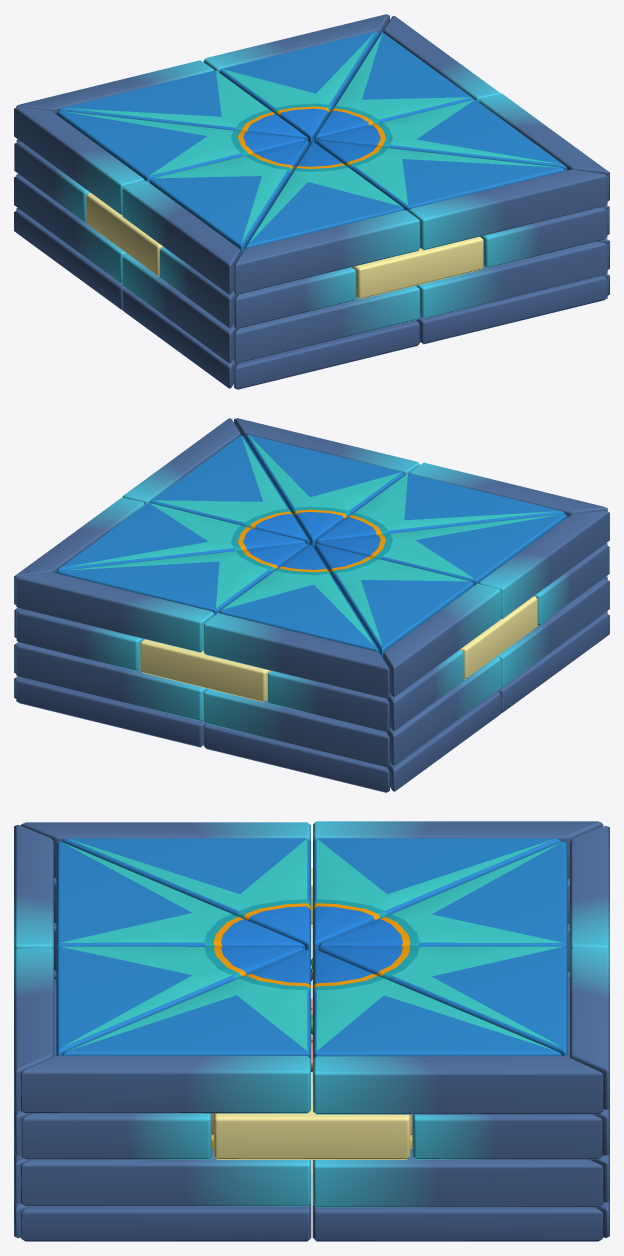
The model's file is lvl_101.fbx.
3 renders of one model, top to bottom at view 1: azimuth 30°, elevation 25°; view 2: azimuth 150°, elevation 25°; view 3: azimuth 270°, elevation 25°, orthographic. The views are drawn at different scales.
Parts seen in each view (by area): view 1: Cube_L1_11, Cube_L1_4, Cube_L2_2, Cube_L1_3, Cube_L2_1, Cube_L1, Cube_L1_2, Cube_L2, Cube_L2_3, Cube_L1_1, Cube_L3_14, Cube_L3_15 (+18 smaller); view 2: Cube_L1_7, Cube_L1_9, Cube_L2_1, Cube_L1, Cube_L2_2, Cube_L1_3, Cube_L2_3, Cube_L1_1, Cube_L2, Cube_L1_2, Cube_L3_18, Cube_L3_20 (+18 smaller); view 3: Cube_L1_8, Cube_L1_10, Cube_L1, Cube_L1_3, Cube_L2_1, Cube_L2_2, Cube_L3_19, Cube_L1_1, Cube_L1_2, Cube_L3_13, Cube_L2_3, Cube_L2 (+11 smaller).
Boxes of the visible parts, bbox=[...] form: Cube_L1_11: bbox=[409, 169, 607, 250]; Cube_L1_4: bbox=[234, 210, 420, 294]; Cube_L2_2: bbox=[150, 141, 309, 253]; Cube_L1_3: bbox=[315, 140, 565, 211]; Cube_L2_1: bbox=[56, 111, 306, 182]; Cube_L1: bbox=[219, 31, 379, 143]; Cube_L1_2: bbox=[317, 99, 567, 170]; Cube_L2: bbox=[58, 70, 308, 141]; Cube_L2_3: bbox=[244, 142, 404, 249]; Cube_L1_1: bbox=[314, 32, 473, 142]; Cube_L3_14: bbox=[416, 241, 607, 318]; Cube_L3_15: bbox=[234, 286, 420, 363]; Cube_L1_7: bbox=[203, 613, 389, 698]; Cube_L1_9: bbox=[16, 572, 214, 652]; Cube_L2_1: bbox=[314, 544, 473, 657]; Cube_L1: bbox=[58, 543, 308, 615]; Cube_L2_2: bbox=[317, 514, 567, 585]; Cube_L1_3: bbox=[244, 434, 404, 547]; Cube_L2_3: bbox=[315, 473, 565, 544]; Cube_L1_1: bbox=[56, 503, 306, 573]; Cube_L2: bbox=[219, 545, 379, 652]; Cube_L1_2: bbox=[150, 435, 309, 545]; Cube_L3_18: bbox=[203, 689, 389, 767]; Cube_L3_20: bbox=[16, 644, 208, 720]; Cube_L1_8: bbox=[313, 1056, 603, 1114]; Cube_L1_10: bbox=[20, 1056, 310, 1113]; Cube_L1: bbox=[318, 946, 567, 1056]; Cube_L1_3: bbox=[56, 946, 305, 1056]; Cube_L2_1: bbox=[313, 838, 561, 950]; Cube_L2_2: bbox=[61, 838, 310, 950]; Cube_L3_19: bbox=[313, 1149, 603, 1207]; Cube_L1_1: bbox=[313, 950, 562, 1058]; Cube_L1_2: bbox=[62, 950, 310, 1058]; Cube_L3_13: bbox=[20, 1149, 310, 1206]; Cube_L2_3: bbox=[56, 841, 305, 949]; Cube_L2: bbox=[318, 841, 567, 949].
Bounding box in the file's own units: 21.82 × 6.99 × 21.82.
